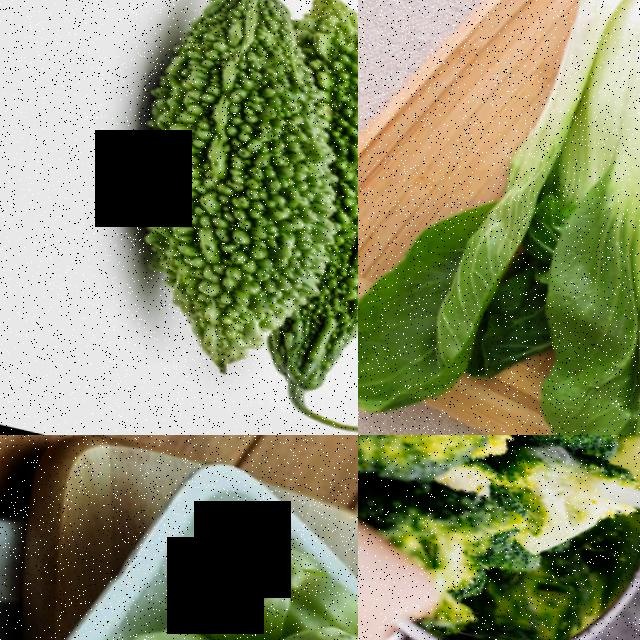bitter gourd: (88, 0, 318, 406), (309, 40, 358, 364)
bok choy: (401, 0, 640, 435)
broccoli: (385, 481, 528, 575), (358, 435, 481, 498)
